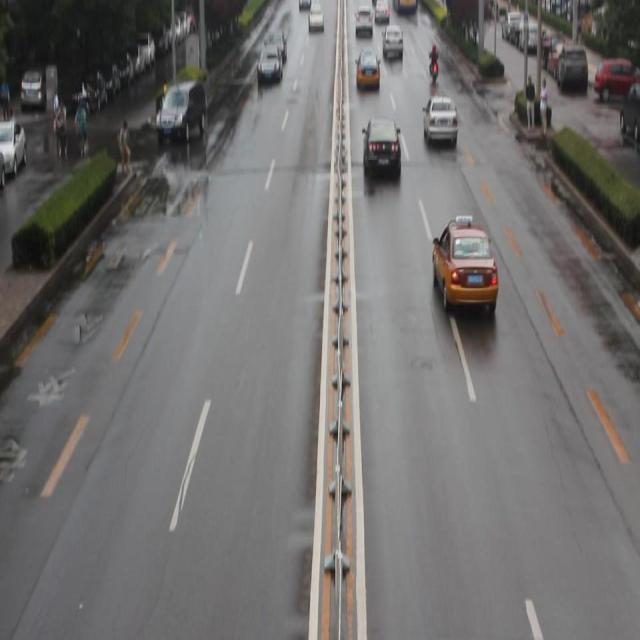car: (430, 221, 496, 321), (361, 124, 400, 183), (421, 102, 456, 150)
truck: (155, 90, 205, 142)
